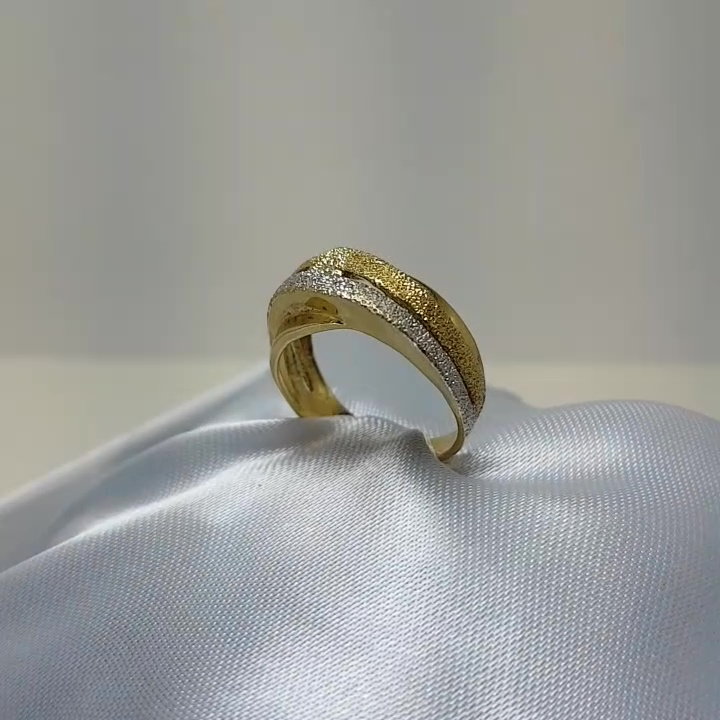Ring 5: (239, 218, 506, 483)
